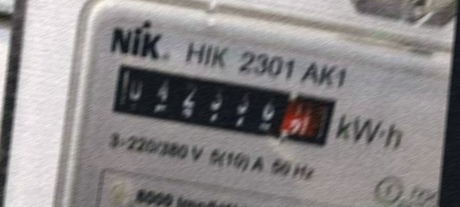0: (127, 75, 143, 105)
2: (179, 82, 199, 110)
3: (206, 84, 224, 115), (235, 88, 251, 117)
4: (153, 78, 172, 107)
6: (259, 96, 276, 125)
screen: (99, 56, 346, 159)
